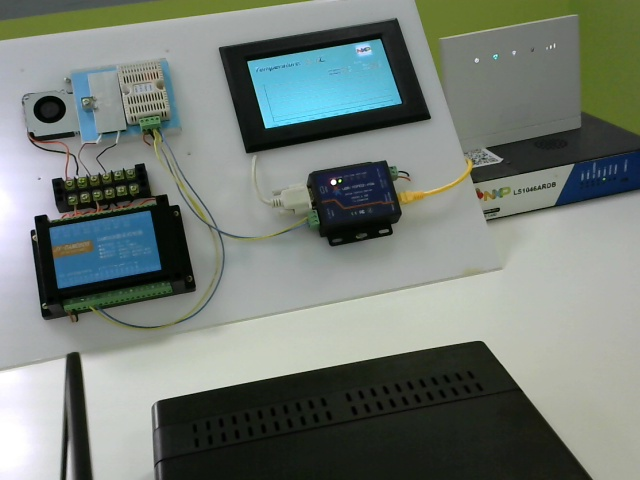fan: (13, 77, 75, 151)
heater: (88, 68, 123, 141)
modbus bridge: (305, 158, 403, 254)
relay: (29, 199, 206, 322)
termperature: (121, 58, 180, 130)
